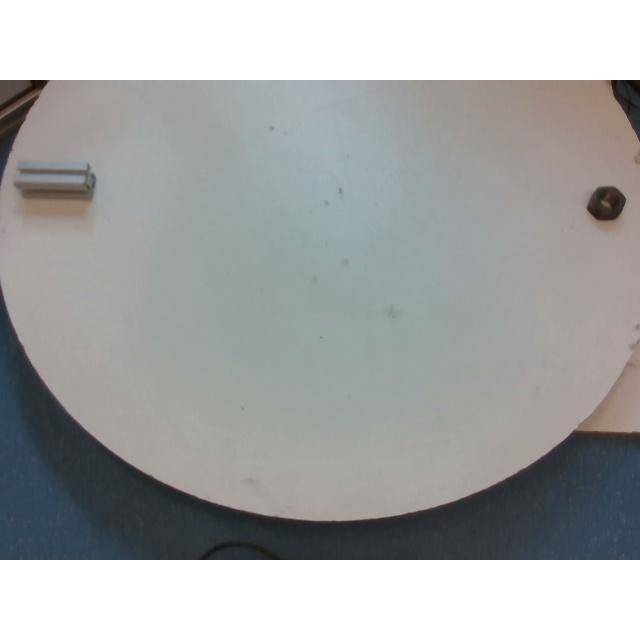M30: (584, 186, 626, 218)
S40_40_G: (13, 160, 97, 202)
